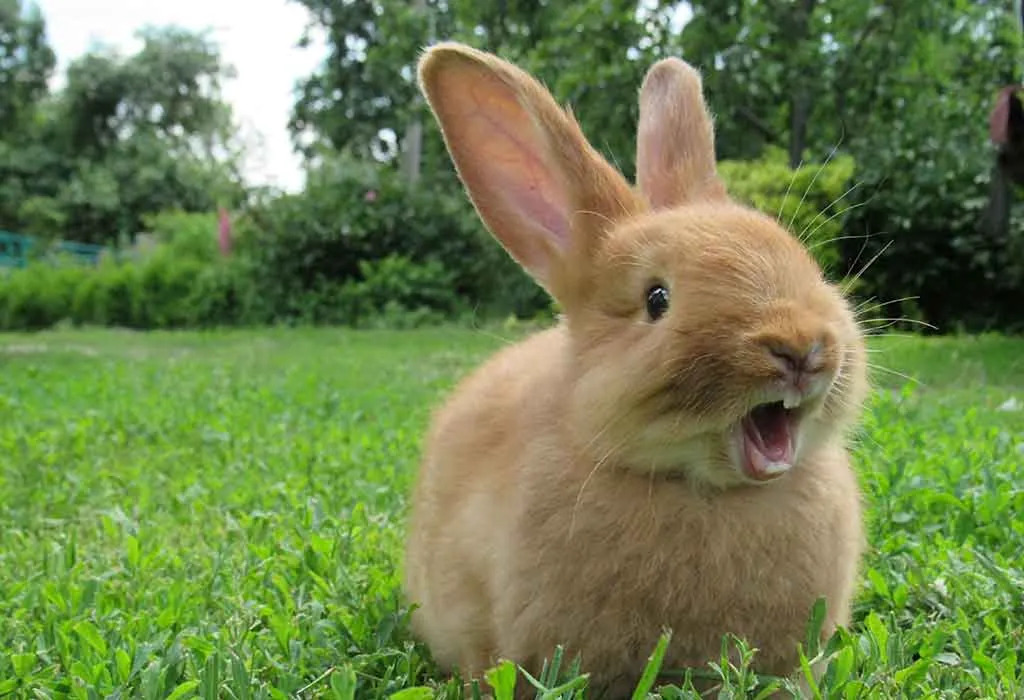rabbit: (390, 48, 865, 656)
